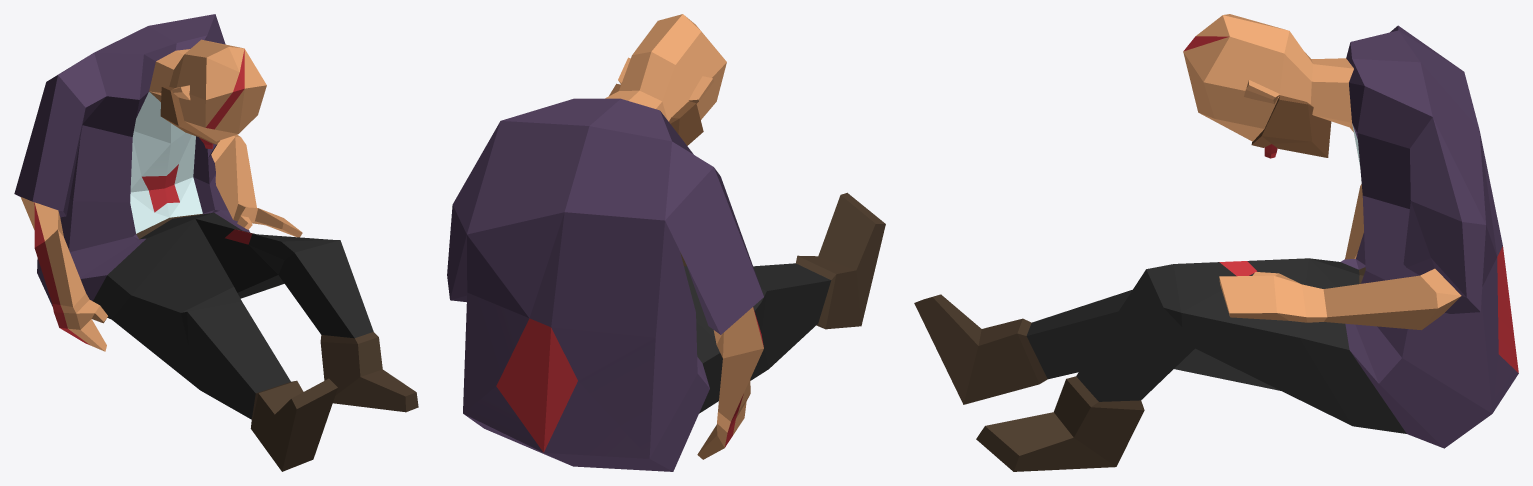
The model's file is apocalypse_man-pedestrian-rival-dead-b.fbx.
The picture shows the model from 3 angles, left to right: view 1: azimuth 30°, elevation 25°; view 2: azimuth 150°, elevation 25°; view 3: azimuth 270°, elevation 25°; orthographic projection. The views are drawn at different scales.
Visible parts, largest first — view 1: apocalypse_man_pedestrian_rival_dead_b; view 2: apocalypse_man_pedestrian_rival_dead_b; view 3: apocalypse_man_pedestrian_rival_dead_b.
Part boxes in pixels (x1=…): apocalypse_man_pedestrian_rival_dead_b: x1=14, y1=14, x2=418, y2=471; apocalypse_man_pedestrian_rival_dead_b: x1=447, y1=14, x2=885, y2=471; apocalypse_man_pedestrian_rival_dead_b: x1=914, y1=14, x2=1518, y2=471.
Bounding box in the file's own units: 112 × 150 × 200.
